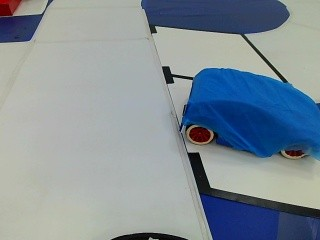car: (179, 61, 318, 163)
